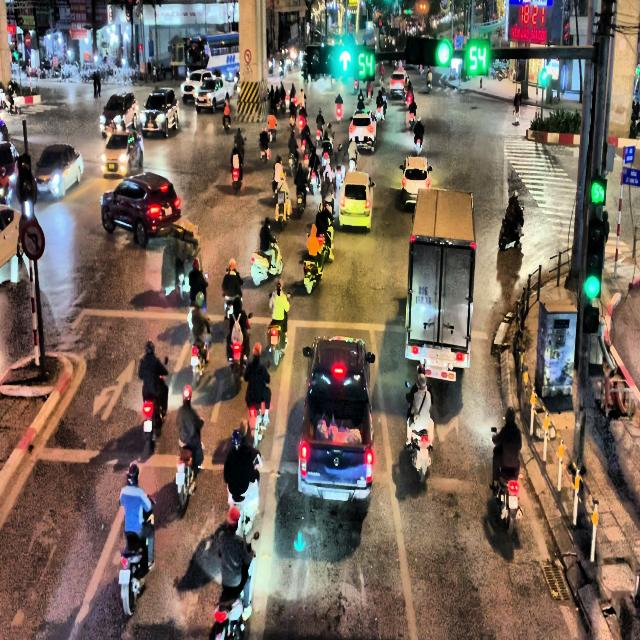lisence_plate: (414, 286, 434, 312), (322, 487, 350, 502), (427, 356, 448, 368), (164, 207, 173, 217), (350, 206, 360, 215)
